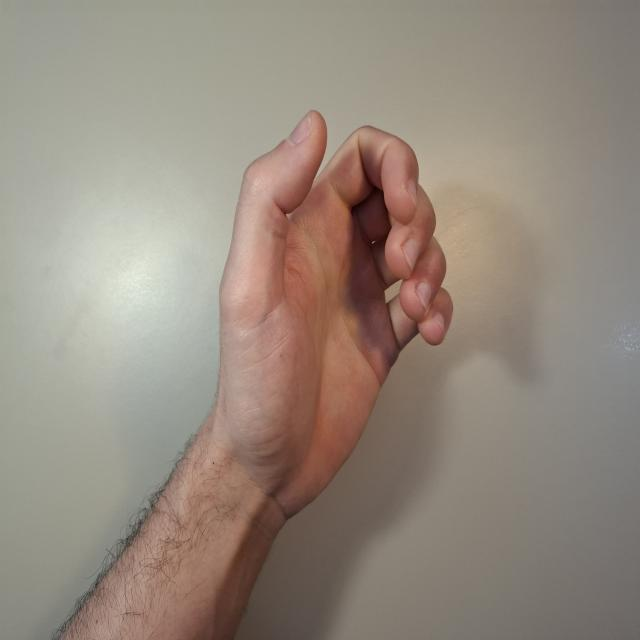glove_off: (213, 105, 455, 528)
